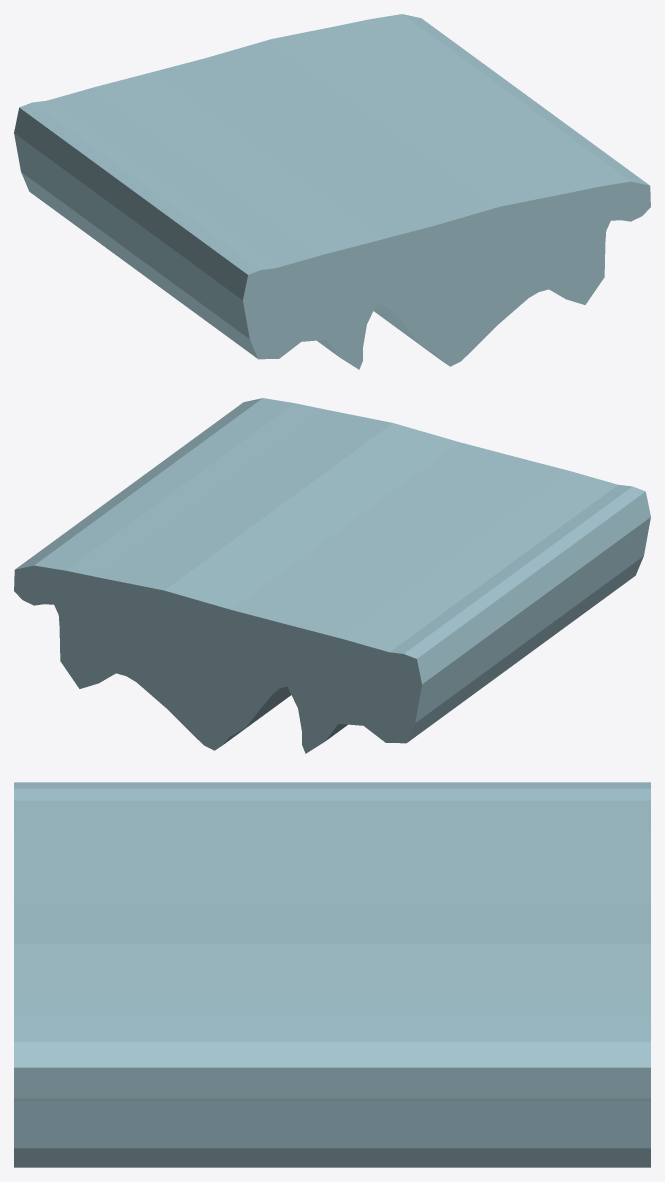
File: block.glb
3 renders of one model, top to bottom at view 1: azimuth 30°, elevation 25°; view 2: azimuth 150°, elevation 25°; view 3: azimuth 270°, elevation 25°, orthographic. The views are drawn at different scales.
Parts seen in each view (by area): view 1: Mesh_Mesh_head_geo.001_lambert2SG.001; view 2: Mesh_Mesh_head_geo.001_lambert2SG.001; view 3: Mesh_Mesh_head_geo.001_lambert2SG.001.
Boxes of the visible parts, x1,y1,x2,y2 form: Mesh_Mesh_head_geo.001_lambert2SG.001: (14, 14, 650, 369); Mesh_Mesh_head_geo.001_lambert2SG.001: (14, 398, 650, 753); Mesh_Mesh_head_geo.001_lambert2SG.001: (14, 782, 650, 1167).
Size of the model in its own units: 10.29 by 3.57 by 10.
